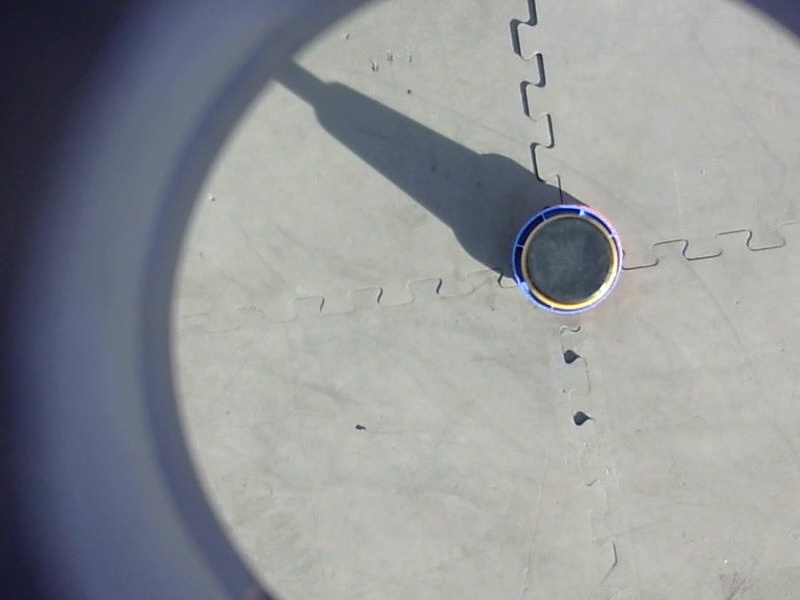tip: (516, 208, 626, 316)
